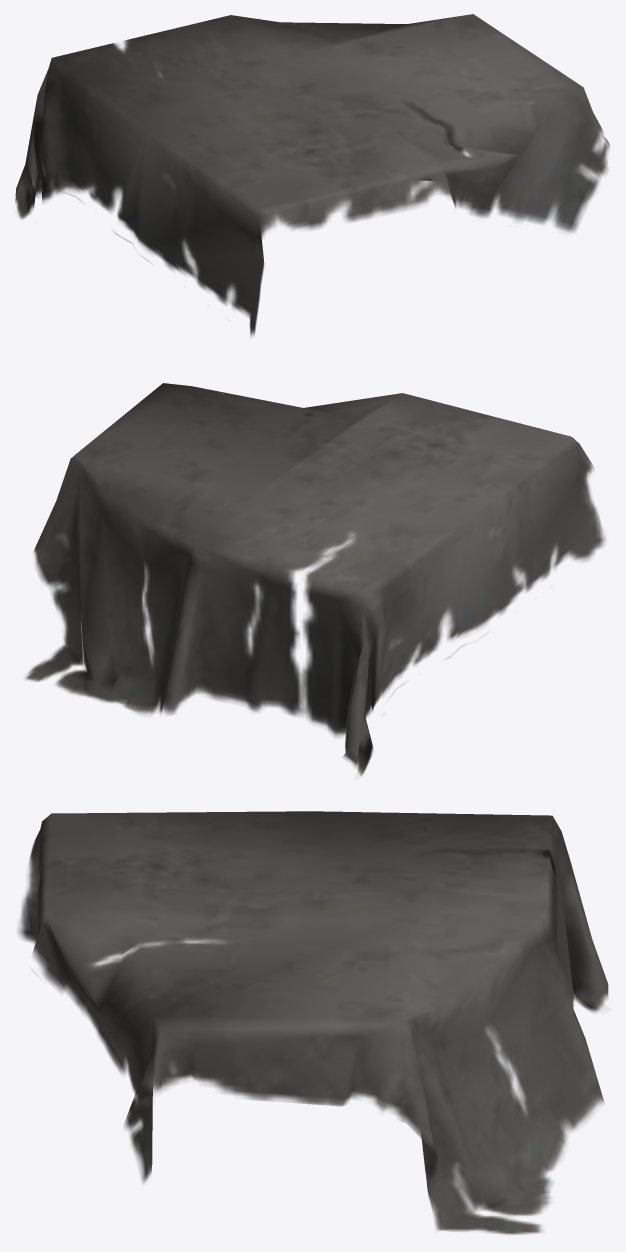
Rendered from cove-tarp-crates.lod1.glb.
3 renders of one model, top to bottom at view 1: azimuth 30°, elevation 25°; view 2: azimuth 150°, elevation 25°; view 3: azimuth 270°, elevation 25°, orthographic. The views are drawn at different scales.
Parts seen in each view (by area): view 1: Cloth_Cloth_0; view 2: Cloth_Cloth_0; view 3: Cloth_Cloth_0.
Part boxes in pixels (x1=…): Cloth_Cloth_0: x1=15, y1=14, x2=609, y2=336; Cloth_Cloth_0: x1=25, y1=383, x2=605, y2=776; Cloth_Cloth_0: x1=18, y1=811, x2=608, y2=1234.
Size of the model in its own units: 2.3 by 0.9754 by 2.4.
Materials: 1 (1 with a texture image).
